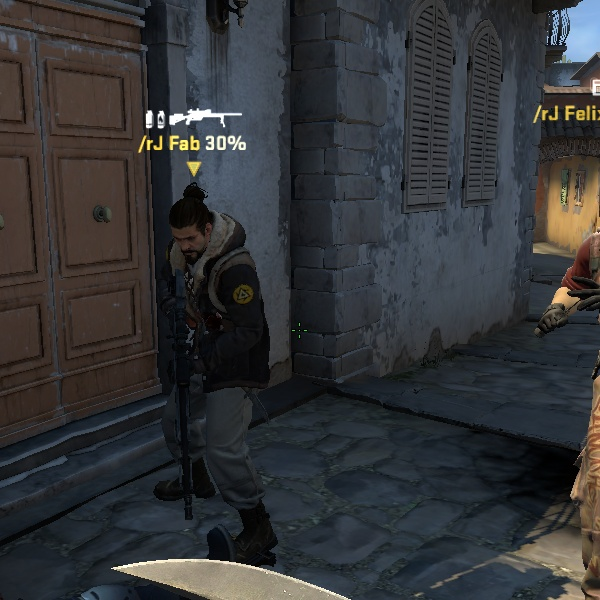ct_body: (120, 177, 304, 532)
ct_head: (153, 184, 237, 265)
t_body: (122, 178, 303, 527)
